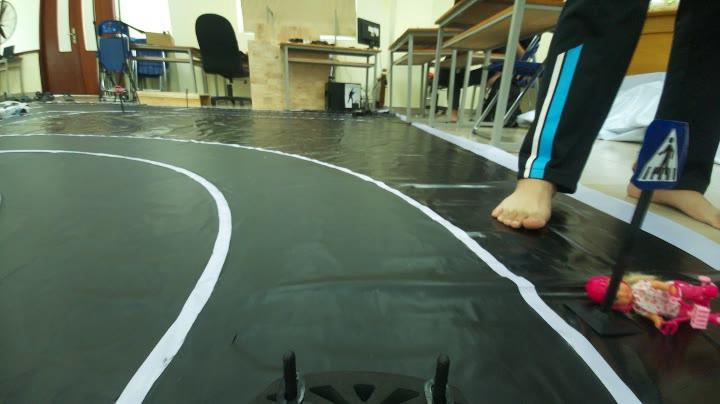crosswalk: (638, 111, 694, 199)
